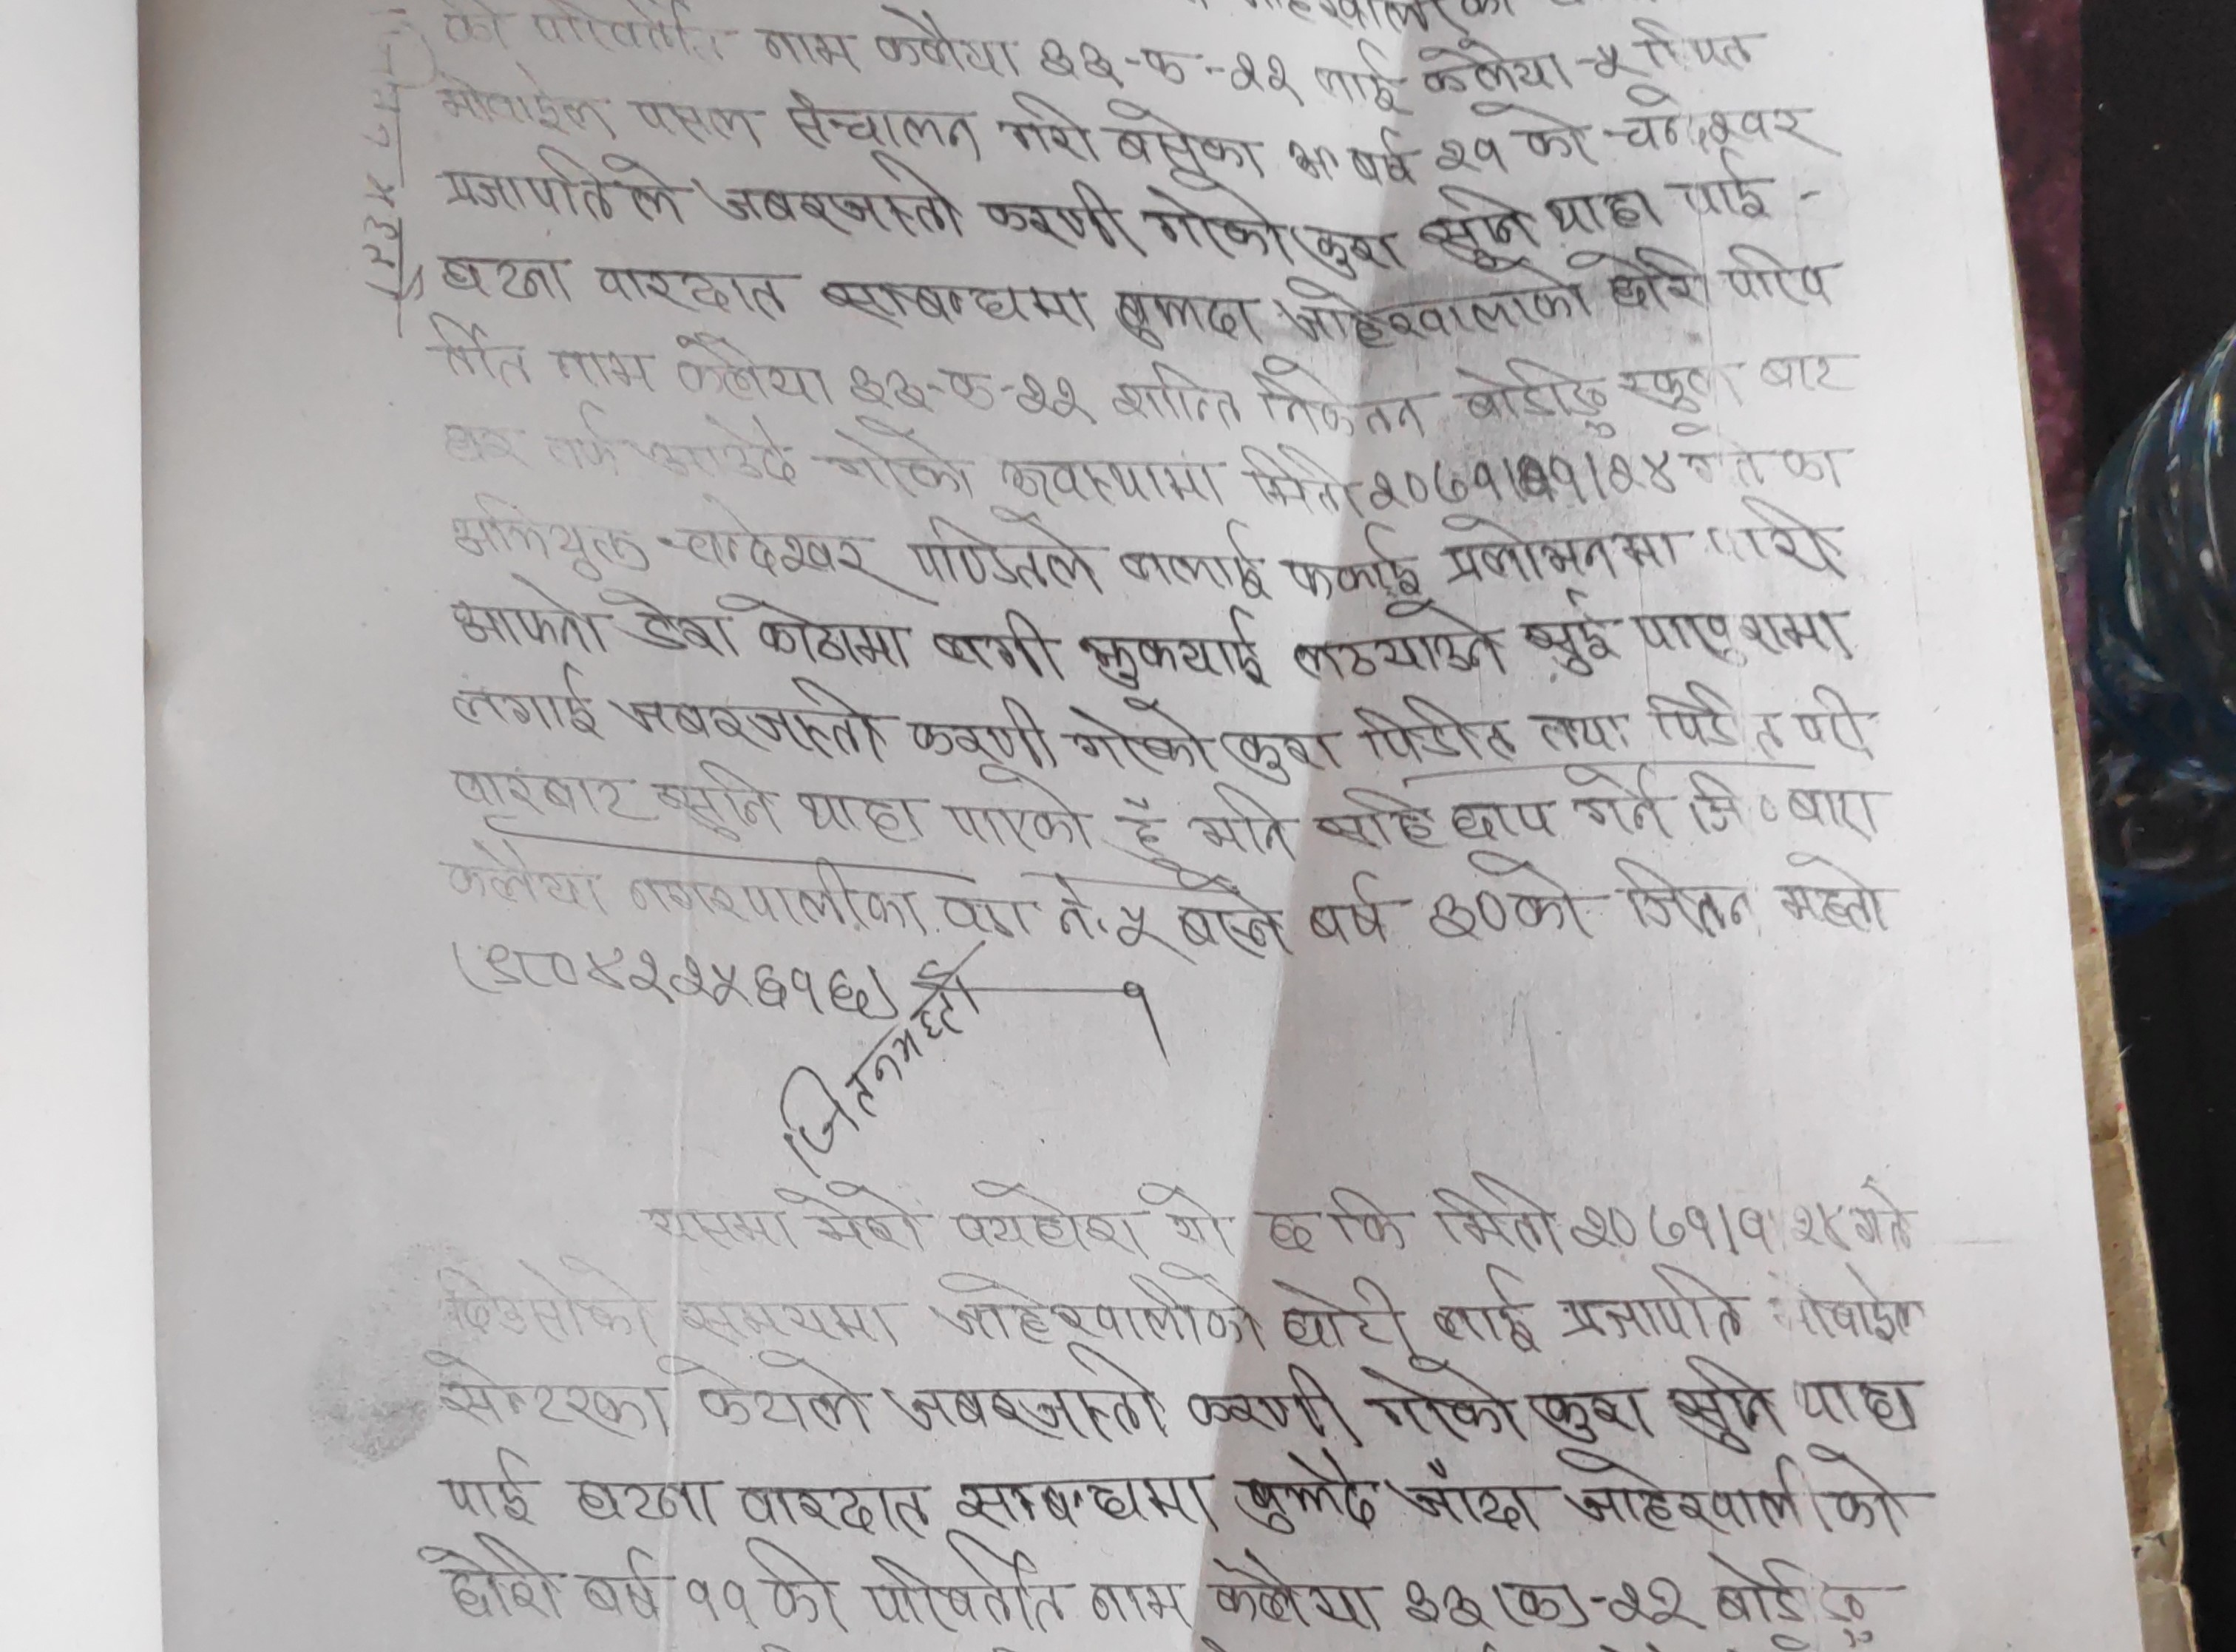text: (486, 939, 870, 1026), (1555, 1451, 1908, 1537), (880, 1347, 1172, 1449), (915, 1267, 1259, 1347), (1273, 272, 1609, 351), (415, 1350, 667, 1449), (621, 857, 927, 937), (620, 675, 884, 764), (703, 151, 963, 239), (1394, 1567, 1705, 1636), (1437, 507, 1691, 590), (441, 142, 689, 227), (1368, 441, 1680, 507), (859, 1539, 1069, 1636), (1288, 599, 1516, 682), (687, 1347, 878, 1444), (1564, 1190, 1852, 1255), (1550, 1262, 1752, 1352), (898, 507, 1104, 592), (1075, 604, 1276, 691), (816, 271, 1092, 333), (1429, 847, 1594, 946), (1621, 599, 1858, 666), (1245, 354, 1429, 441), (1684, 764, 1878, 845), (842, 361, 1095, 423), (948, 1175, 1137, 1258), (1203, 1551, 1382, 1638), (1354, 1359, 1522, 1449), (1139, 170, 1295, 267), (814, 416, 983, 505), (948, 1478, 1215, 1534), (1759, 1263, 1936, 1347), (773, 83, 990, 151), (1229, 1445, 1382, 1537), (672, 323, 833, 410), (729, 1473, 934, 1541), (444, 571, 609, 654), (1182, 1359, 1347, 1440), (976, 170, 1134, 255), (1602, 92, 1830, 151), (410, 1536, 569, 1619), (1347, 689, 1517, 767), (1710, 1551, 1880, 1629), (1061, 691, 1210, 779), (1667, 1350, 1790, 1456), (1116, 515, 1273, 599), (1611, 850, 1760, 937), (590, 260, 797, 323), (752, 593, 917, 672), (529, 0, 729, 64), (444, 760, 637, 826), (944, 770, 1094, 855), (436, 71, 618, 141), (1642, 675, 1786, 762), (1679, 420, 1852, 491), (998, 453, 1220, 508), (1700, 495, 1844, 580), (1424, 1260, 1545, 1359), (908, 689, 1052, 772), (444, 661, 604, 736), (1387, 1454, 1538, 1532), (642, 758, 786, 840), (1453, 354, 1618, 425), (1417, 180, 1543, 272), (1104, 95, 1255, 172), (1427, 1171, 1566, 1253), (1285, 521, 1425, 597), (1267, 1275, 1408, 1352), (873, 7, 1021, 78), (1238, 441, 1361, 526), (1772, 847, 1889, 935), (927, 606, 1062, 680), (1175, 873, 1288, 961), (1417, 33, 1568, 99), (1786, 1367, 1925, 1439), (1106, 356, 1240, 427), (1559, 760, 1675, 842), (1307, 786, 1443, 855), (1104, 285, 1262, 344), (1517, 588, 1618, 680), (424, 309, 535, 392), (635, 1196, 792, 1255), (799, 1178, 917, 1256), (616, 587, 733, 665), (568, 1473, 720, 1531), (1627, 12, 1766, 75), (1302, 868, 1403, 953), (1717, 239, 1840, 309), (792, 786, 924, 850), (1307, 35, 1404, 121), (1186, 783, 1292, 861), (1597, 245, 1715, 314), (439, 1444, 536, 1527), (759, 1543, 844, 1635), (998, 85, 1101, 160), (1135, 1182, 1236, 1256), (632, 94, 764, 149), (1531, 1385, 1651, 1445), (575, 1550, 672, 1624), (436, 250, 568, 302), (1616, 357, 1746, 410), (1786, 680, 1873, 755), (1233, 725, 1338, 786), (1304, 220, 1406, 283), (1675, 151, 1767, 220), (1547, 186, 1667, 238), (1755, 345, 1866, 399), (1444, 793, 1555, 847), (1319, 1187, 1406, 1255), (759, 21, 861, 78), (1111, 788, 1174, 871), (550, 344, 660, 390), (1344, 121, 1422, 186), (1522, 102, 1597, 168), (943, 888, 1036, 941), (1849, 1180, 1917, 1251), (1090, 1583, 1187, 1631), (1035, 35, 1121, 88), (1531, 711, 1625, 760), (679, 1572, 752, 1635), (441, 415, 529, 465), (1043, 869, 1097, 946), (1227, 50, 1299, 108), (1111, 895, 1170, 961), (1432, 128, 1510, 177), (439, 5, 509, 52), (1253, 1208, 1316, 1258), (1141, 36, 1194, 92), (1286, 135, 1333, 186), (1592, 38, 1637, 87)
